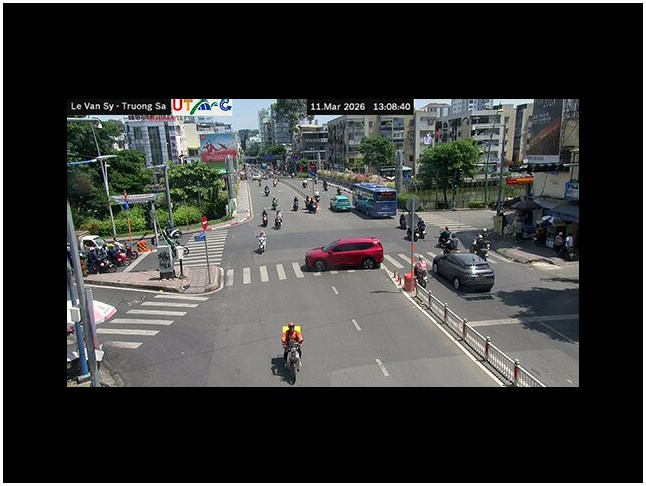car: (303, 237, 384, 272), (432, 250, 495, 294), (330, 195, 352, 212)
motorbike: (270, 340, 303, 385)
truck: (351, 182, 398, 219)
